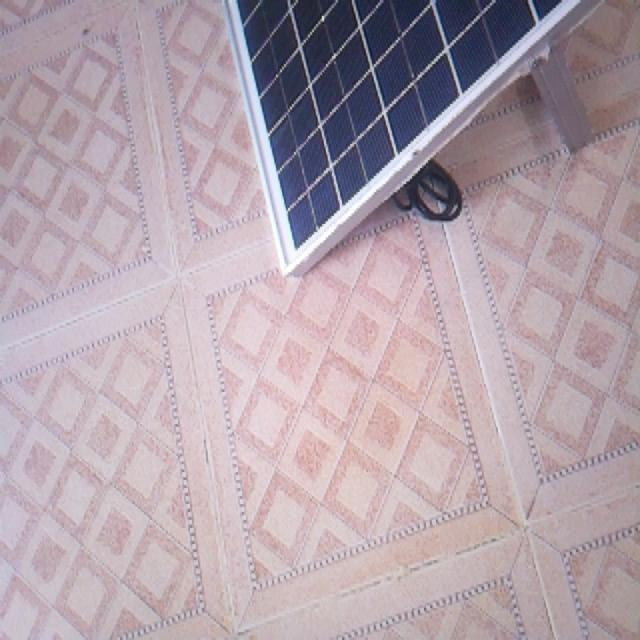Normal Solar Panel: (226, 1, 599, 275)
